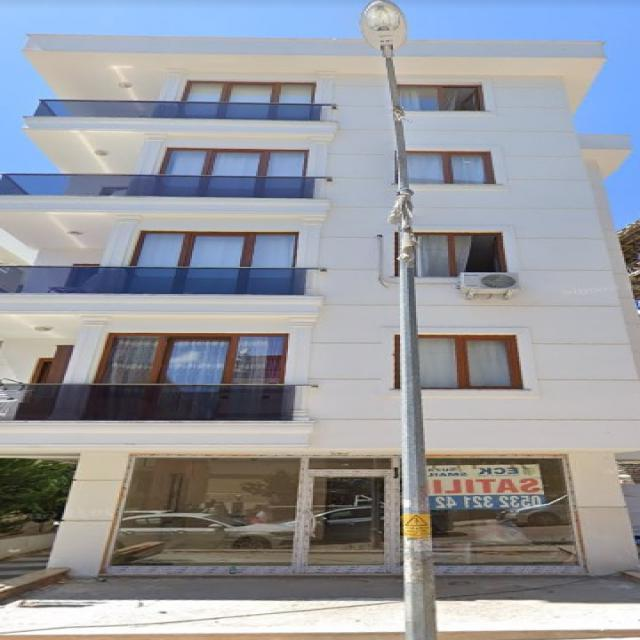Building: (0, 33, 640, 573)
